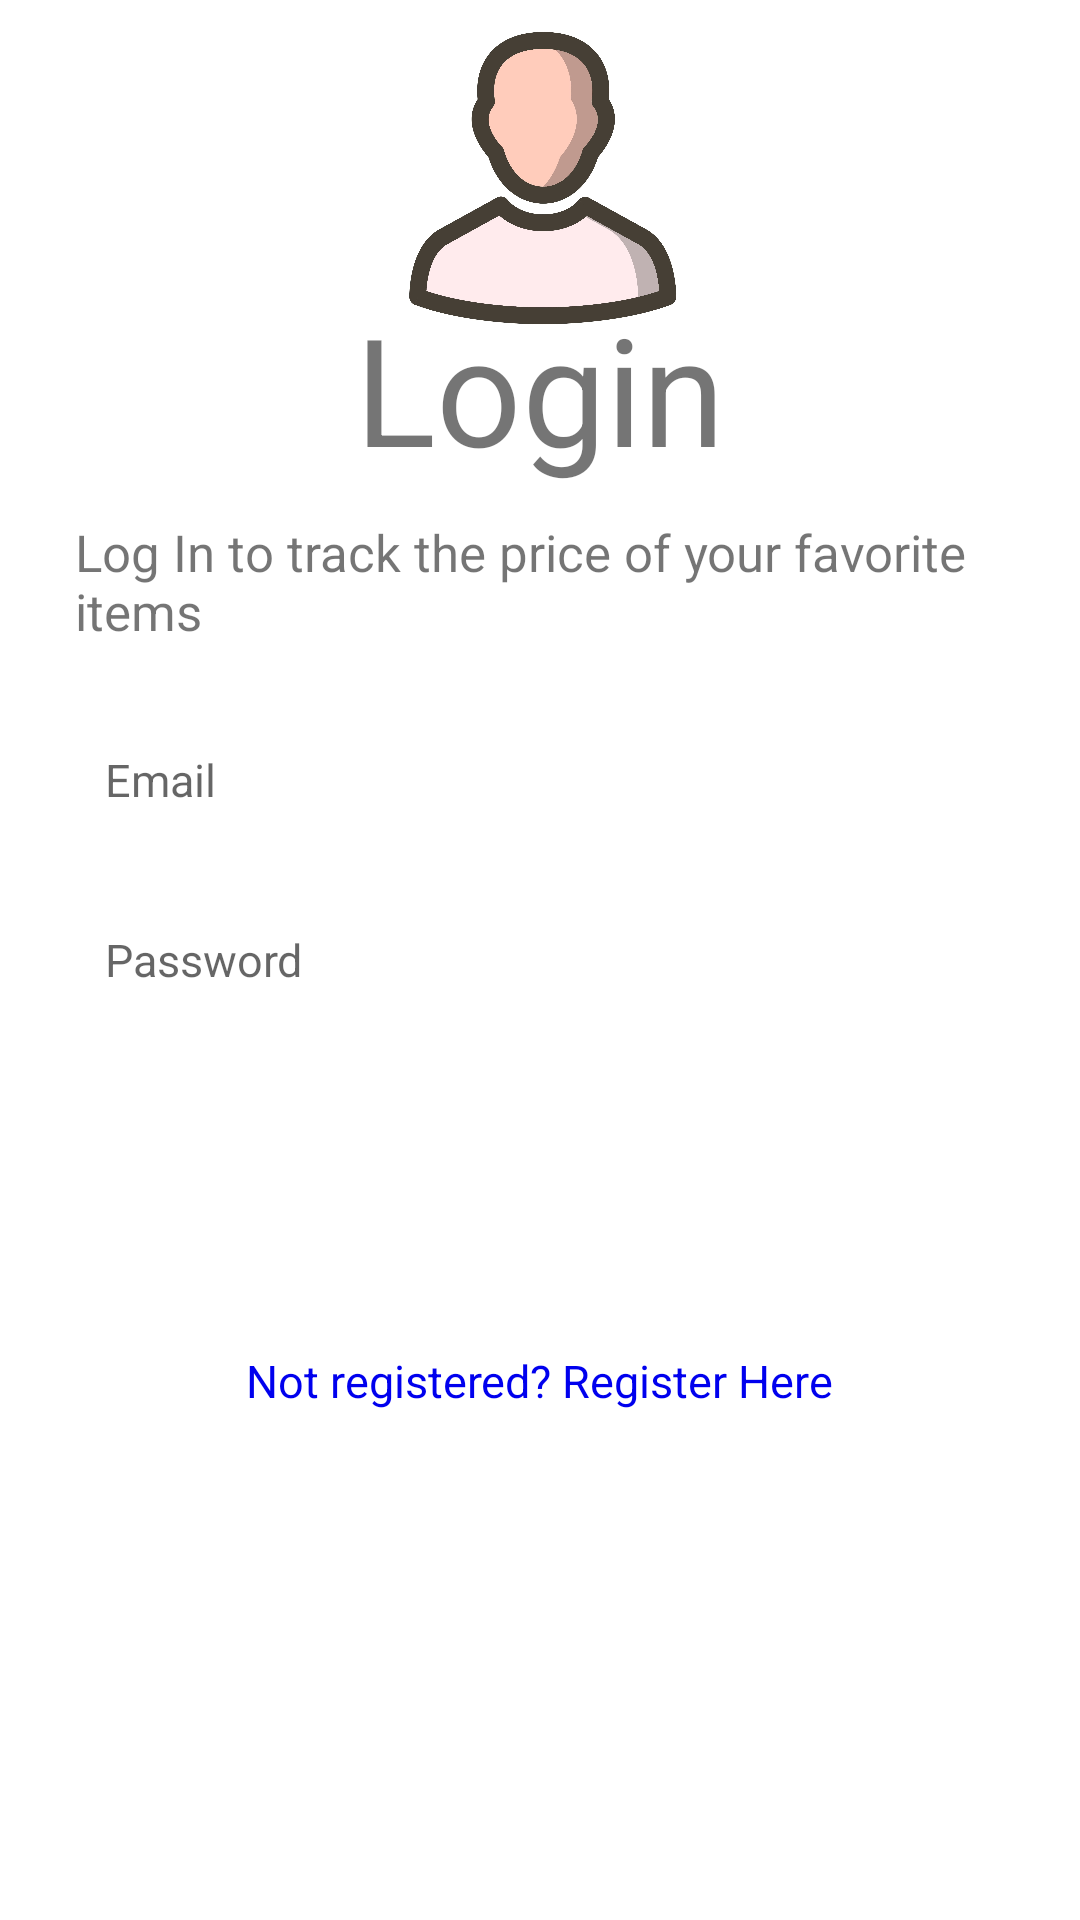

Where to tap for icons on this 1080 x 1920 app screen, as point (x, y):
man: point (542, 178)
